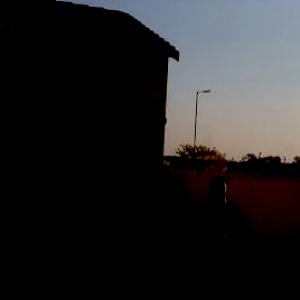follow: (190, 170, 254, 299)
